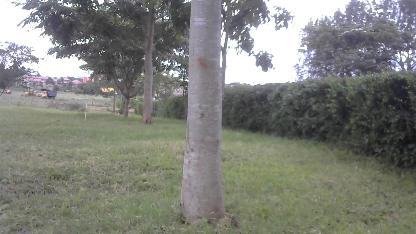tree: (17, 2, 252, 114), (178, 1, 231, 234)
